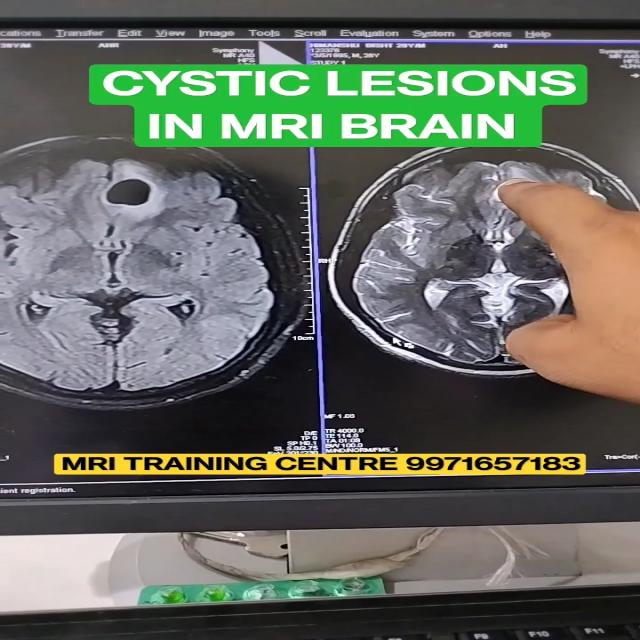tumor: (99, 170, 193, 240)
